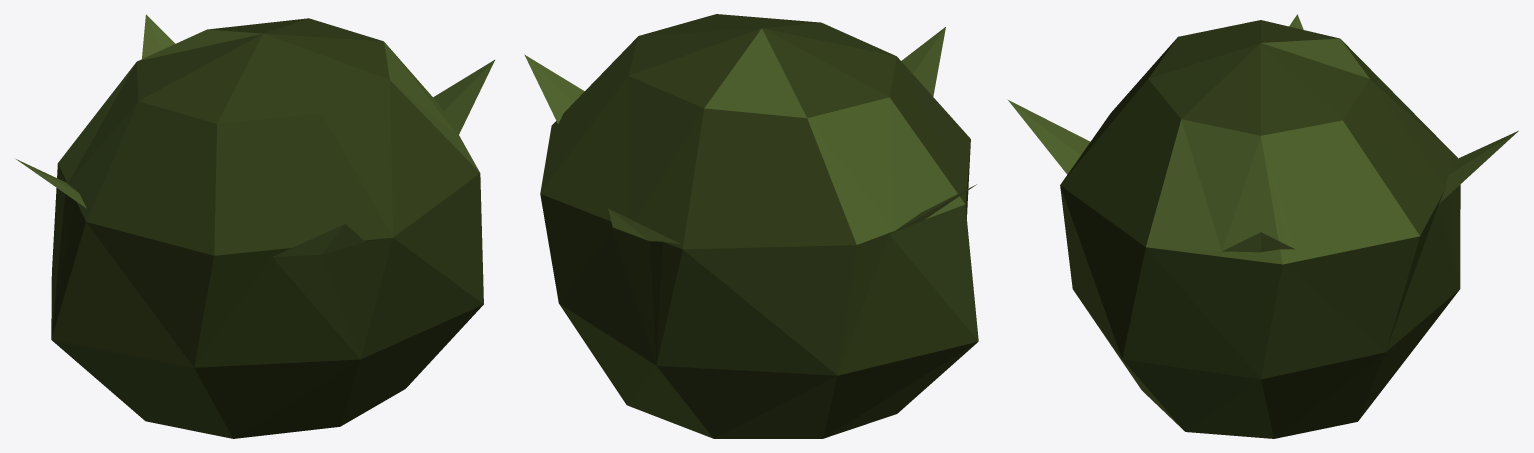
File: Bush_Leafy_01.fbx
3 views of the same model, side by side, from view 1: azimuth 30°, elevation 25°; view 2: azimuth 150°, elevation 25°; view 3: azimuth 270°, elevation 25° (orthographic). The views are drawn at different scales.
Parts seen in each view (by area): view 1: Bush_Leafy_01_Mesh; view 2: Bush_Leafy_01_Mesh; view 3: Bush_Leafy_01_Mesh.
Boxes of the visible parts, <box> form: Bush_Leafy_01_Mesh: <box>16,14,494,438</box>; Bush_Leafy_01_Mesh: <box>524,14,978,438</box>; Bush_Leafy_01_Mesh: <box>1007,14,1518,438</box>.
Size of the model in its own units: 1.03 by 0.832 by 1.03.
1 material, 1 textured.
